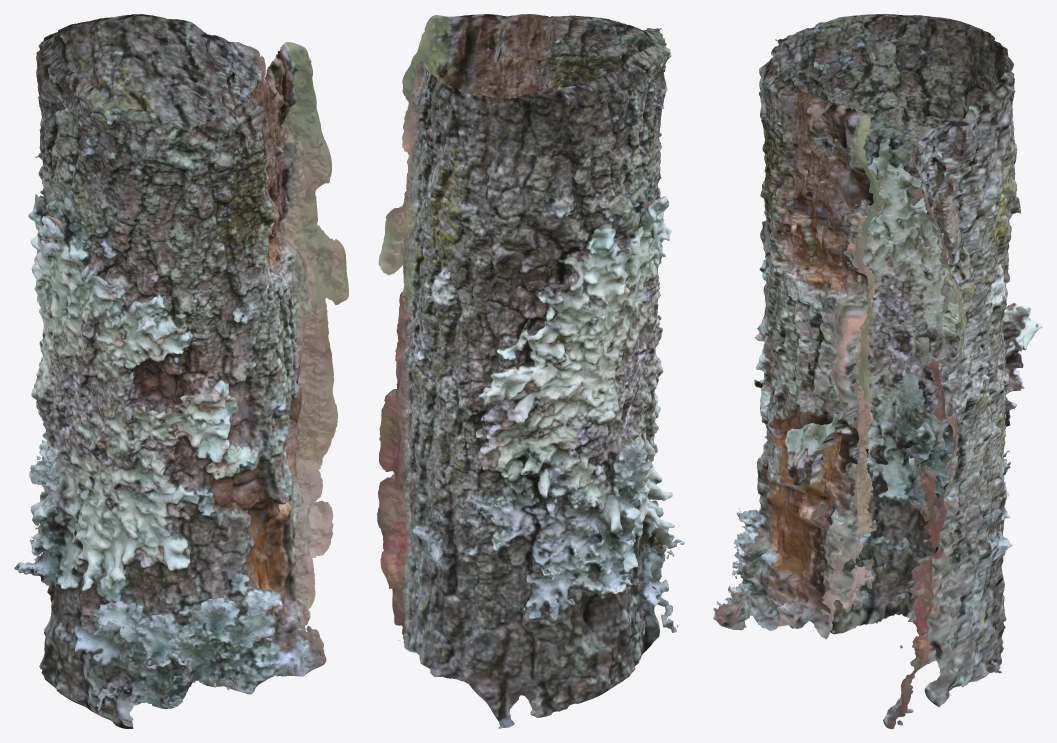
File: sf-flavoparmelia-caperata-lichen-scan-67d27b.glb
The picture shows the model from 3 angles, left to right: view 1: azimuth 30°, elevation 25°; view 2: azimuth 150°, elevation 25°; view 3: azimuth 270°, elevation 25°; orthographic projection. The views are drawn at different scales.
Parts seen in each view (by area): view 1: Object_2; view 2: Object_2; view 3: Object_2.
Part boxes in pixels (left/top/right/bottom): Object_2: left=14, top=14, right=348, bottom=728; Object_2: left=377, top=14, right=684, bottom=728; Object_2: left=713, top=14, right=1042, bottom=728.
Size of the model in its own units: 1.22 by 2.56 by 1.22.
Materials: 1 (1 with a texture image).
